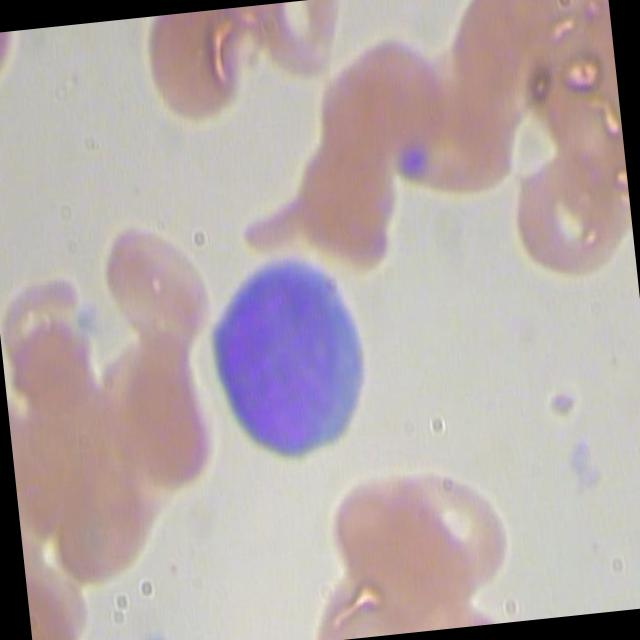RBC: (380, 454, 523, 600), (96, 206, 218, 352), (506, 138, 628, 282)
WBC: (194, 237, 390, 470)
